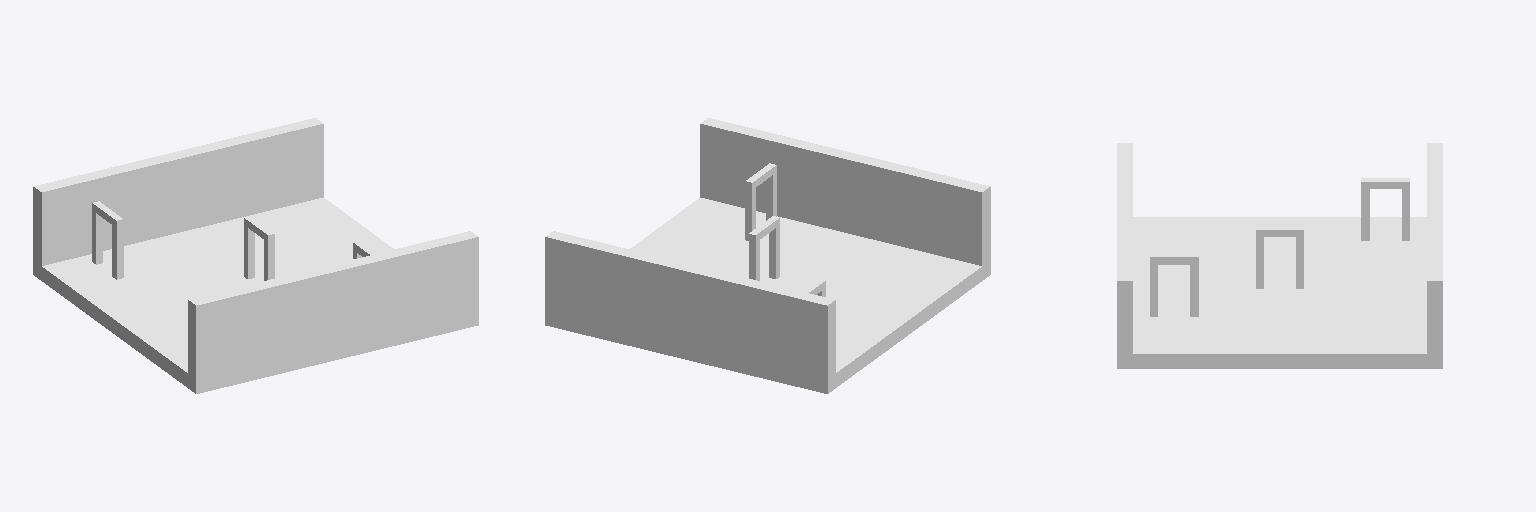
Rendered from module2.obj.
3 views of the same model, side by side, from view 1: azimuth 30°, elevation 25°; view 2: azimuth 150°, elevation 25°; view 3: azimuth 270°, elevation 25° (orthographic).
Visible parts, largest first — view 1: object 1; view 2: object 1; view 3: object 1.
Part boxes in pixels (bbox=[...]): object 1: bbox=[33, 118, 478, 393]; object 1: bbox=[545, 118, 990, 393]; object 1: bbox=[1117, 143, 1442, 368].
Bounding box in the file's own units: 4 × 1.2 × 4.